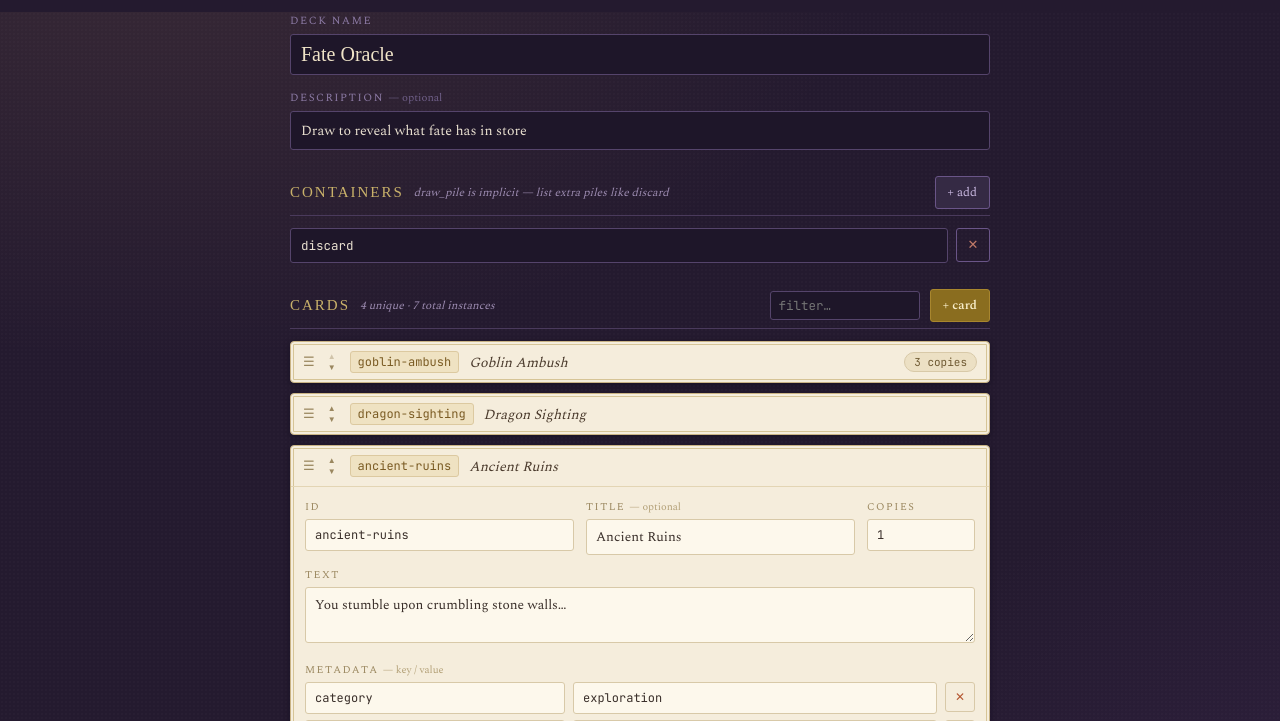
Test: CARDS section header › adds a blank, expanded card via + card
Click the button "+ card" at (960, 306), box [930, 289, 990, 322]
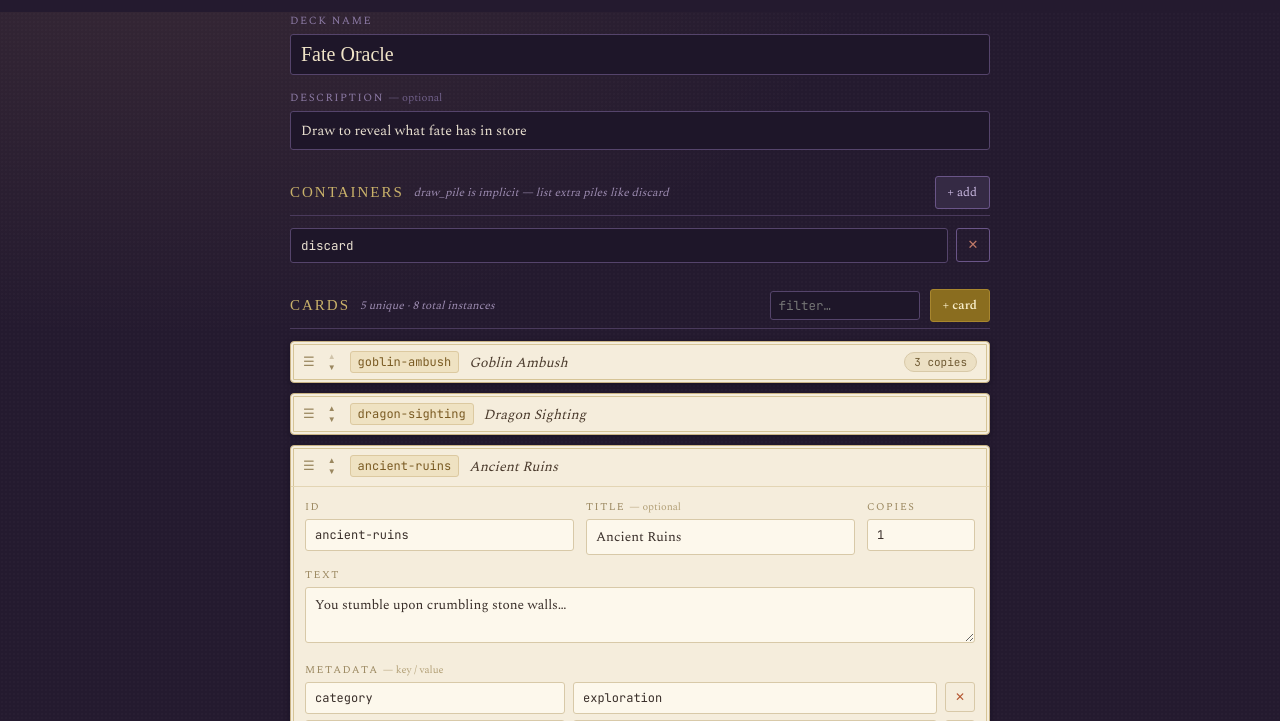
expect the text "5 unique · 8 total instances" is shown: met, box [360, 297, 495, 314]
